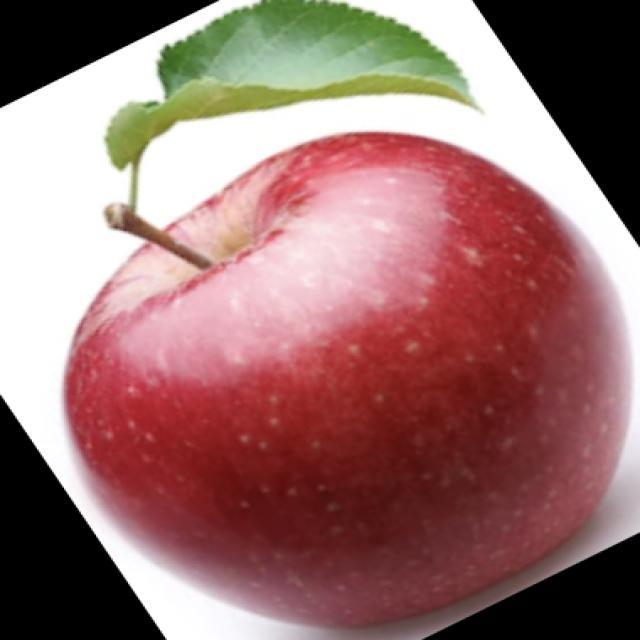Fresh Apple: (70, 142, 623, 598)
